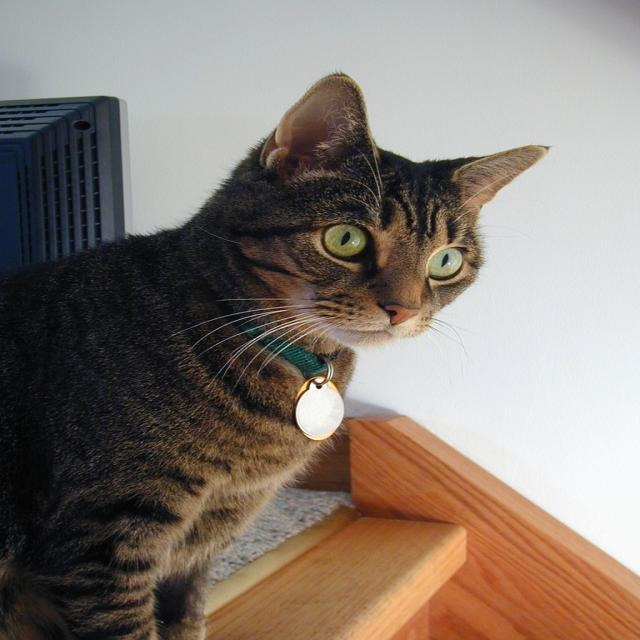cat: (29, 77, 549, 630)
